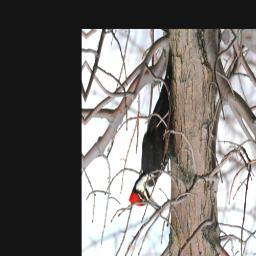Woodpecker: (128, 38, 179, 214)
